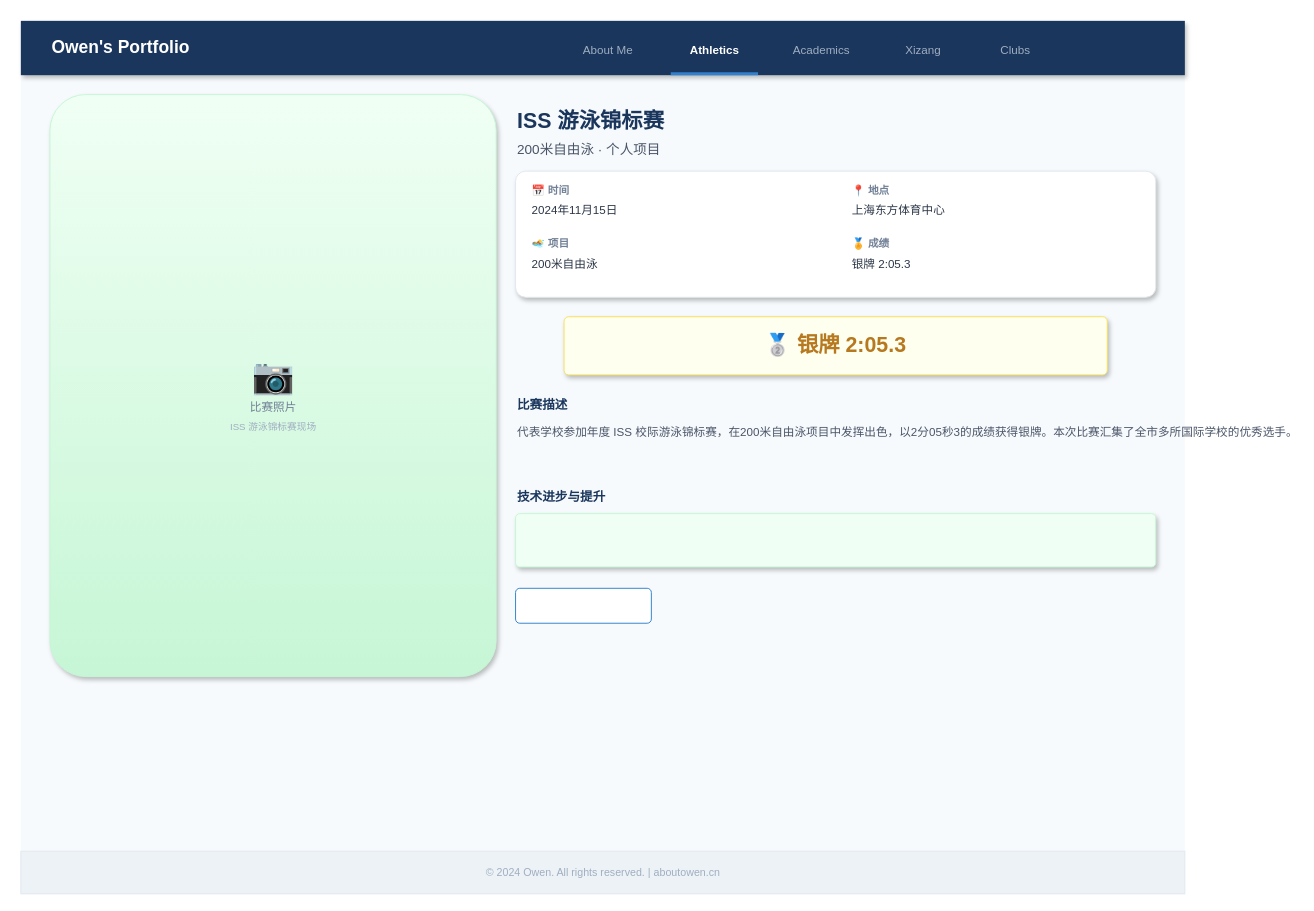
Some shapes in this 1314 by 911 pixel diagram are drawn without their labels. Each missing label, with the centre of its shape:
← 返回列表: the point at 583,605
通过改进转身技术和节奏控制，成绩稳步提升。从入学时的 2:30 提升到 2:05。: the point at 836,541
